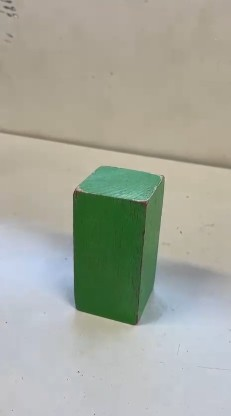green: (74, 167, 157, 324)
